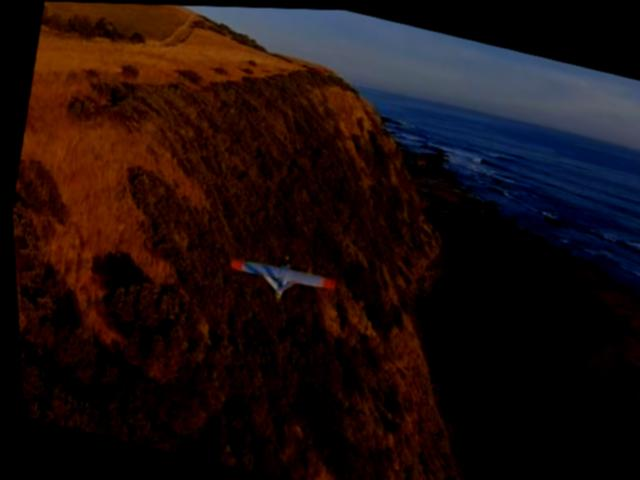uav: (219, 242, 338, 316)
